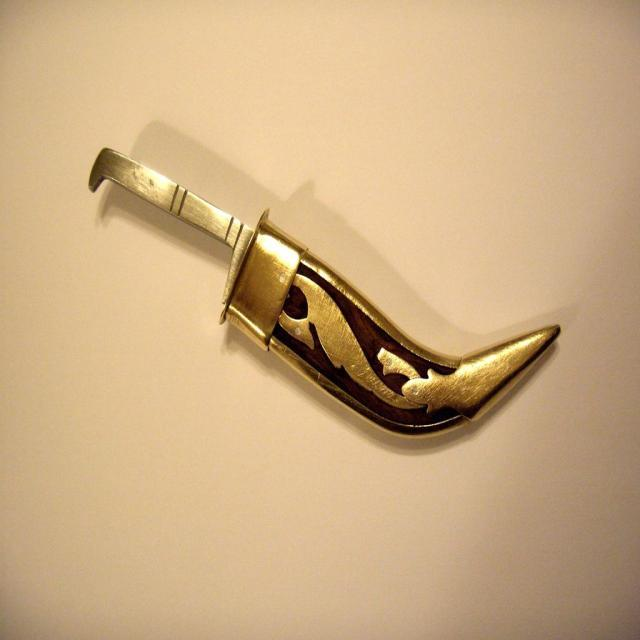Knife: (90, 149, 561, 438)
